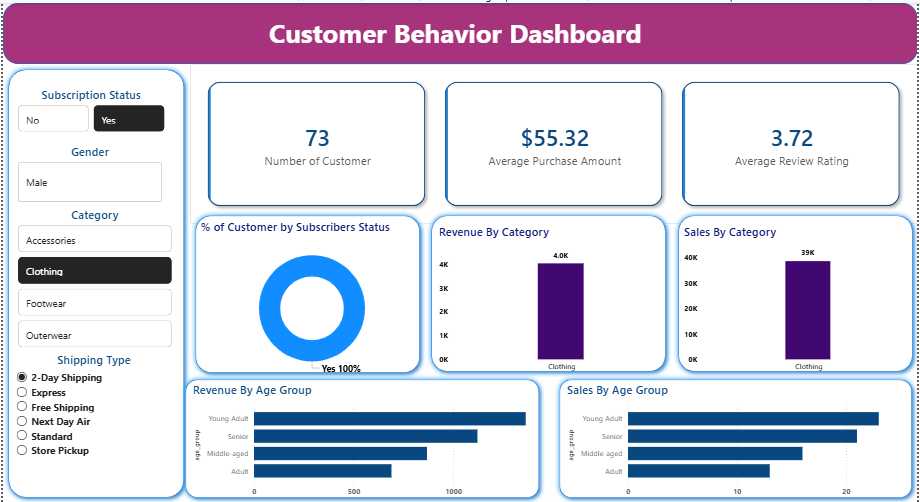

The page's visual inventory and layout, read from the dashboard file:
{"tool":"powerbi","page":{"name":"Page 1","canvas":[1500,820],"ordinal":0},"visuals":[{"type":"shape","box":[0,100,306,720],"z":0},{"type":"shape","box":[290,608,598,212],"z":1000},{"type":"cardVisual","fields":{"Data":["public customer.Number of Customer","public customer.Average Purchase Amount","public customer.Average Review Rating"]},"box":[306,100,1194,262],"z":2000},{"type":"shape","box":[0,0,1500,100],"z":3000},{"type":"textbox","box":[432,14,634,72],"z":4000},{"type":"shape","box":[306,340,386,276],"z":5000},{"type":"shape","box":[694,340,402,274],"z":6000},{"type":"shape","box":[1098,340,402,274],"z":7000},{"type":"donutChart","title":"% of Customer by Subscribers Status","fields":{"Category":["public customer.subscription_status"],"Y":["CountNonNull(public customer.customer_id)"]},"box":[320,354,374,268],"z":8000},{"type":"clusteredColumnChart","title":"Revenue By Category","fields":{"Y":["Sum(public customer.purchase_amount)"],"Category":["public customer.category"]},"box":[710,362,388,252],"z":9000},{"type":"clusteredColumnChart","title":"Sales By Category","fields":{"Category":["public customer.category"],"Y":["Sum(public customer.customer_id)"]},"box":[1112,362,388,252],"z":10000},{"type":"advancedSlicerVisual","title":"Subscription Status","fields":{"Values":["public customer.subscription_status"]},"box":[20,138,250,78],"z":11000},{"type":"listSlicer","title":"Shipping Type","fields":{"Values":["public customer.shipping_type"]},"box":[16,572,266,230],"z":13000},{"type":"clusteredBarChart","title":"Revenue By Age Group","fields":{"Y":["Sum(public customer.purchase_amount)"],"Category":["public customer.age_group"]},"box":[306,622,582,198],"z":14000},{"type":"shape","box":[904,608,596,212],"z":15000},{"type":"clusteredBarChart","title":"Sales By Age Group","fields":{"Category":["public customer.age_group"],"Y":["CountNonNull(public customer.customer_id)"]},"box":[920,622,564,198],"z":16000},{"type":"advancedSlicerVisual","title":"Gender","fields":{"Values":["public customer.gender"]},"box":[20,232,246,100],"z":17000},{"type":"advancedSlicerVisual","title":"Category","fields":{"Values":["public customer.category"]},"box":[20,334,262,238],"z":17500}]}

Visuals, with their boxes in screenshot pixels (x1, y1, x2, y2), scaled from the page's 1500x820 canvas onto the 920x502 screenshot:
shape: {"left": 0, "top": 61, "right": 188, "bottom": 501}
shape: {"left": 178, "top": 372, "right": 545, "bottom": 501}
cardVisual - public customer.Number of Customer x public customer.Average Purchase Amount: {"left": 188, "top": 61, "right": 919, "bottom": 222}
shape: {"left": 0, "top": 0, "right": 919, "bottom": 61}
textbox: {"left": 265, "top": 9, "right": 654, "bottom": 53}
shape: {"left": 188, "top": 208, "right": 424, "bottom": 377}
shape: {"left": 426, "top": 208, "right": 672, "bottom": 376}
shape: {"left": 673, "top": 208, "right": 919, "bottom": 376}
"% of Customer by Subscribers Status" donutChart: {"left": 196, "top": 217, "right": 426, "bottom": 381}
"Revenue By Category" clusteredColumnChart: {"left": 435, "top": 222, "right": 673, "bottom": 376}
"Sales By Category" clusteredColumnChart: {"left": 682, "top": 222, "right": 919, "bottom": 376}
"Subscription Status" advancedSlicerVisual: {"left": 12, "top": 84, "right": 166, "bottom": 132}
"Shipping Type" listSlicer: {"left": 10, "top": 350, "right": 173, "bottom": 491}
"Revenue By Age Group" clusteredBarChart: {"left": 188, "top": 381, "right": 545, "bottom": 501}
shape: {"left": 554, "top": 372, "right": 919, "bottom": 501}
"Sales By Age Group" clusteredBarChart: {"left": 564, "top": 381, "right": 910, "bottom": 501}
"Gender" advancedSlicerVisual: {"left": 12, "top": 142, "right": 163, "bottom": 203}
"Category" advancedSlicerVisual: {"left": 12, "top": 204, "right": 173, "bottom": 350}
